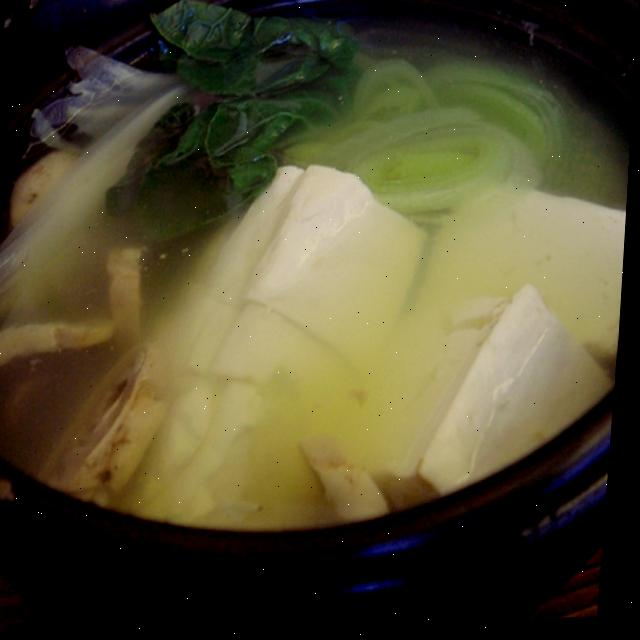豆腐料理: (0, 0, 640, 620)
